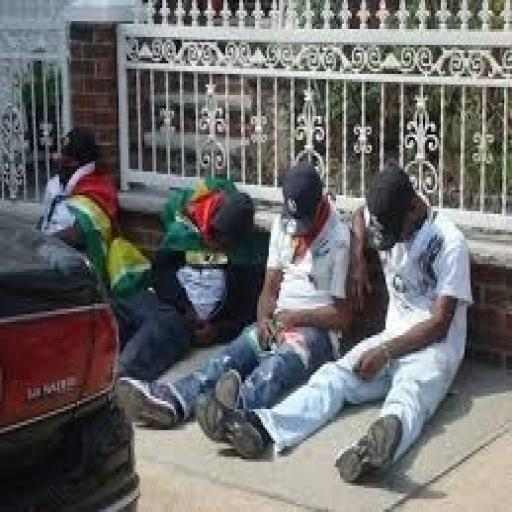sleeping: (196, 158, 476, 486)
